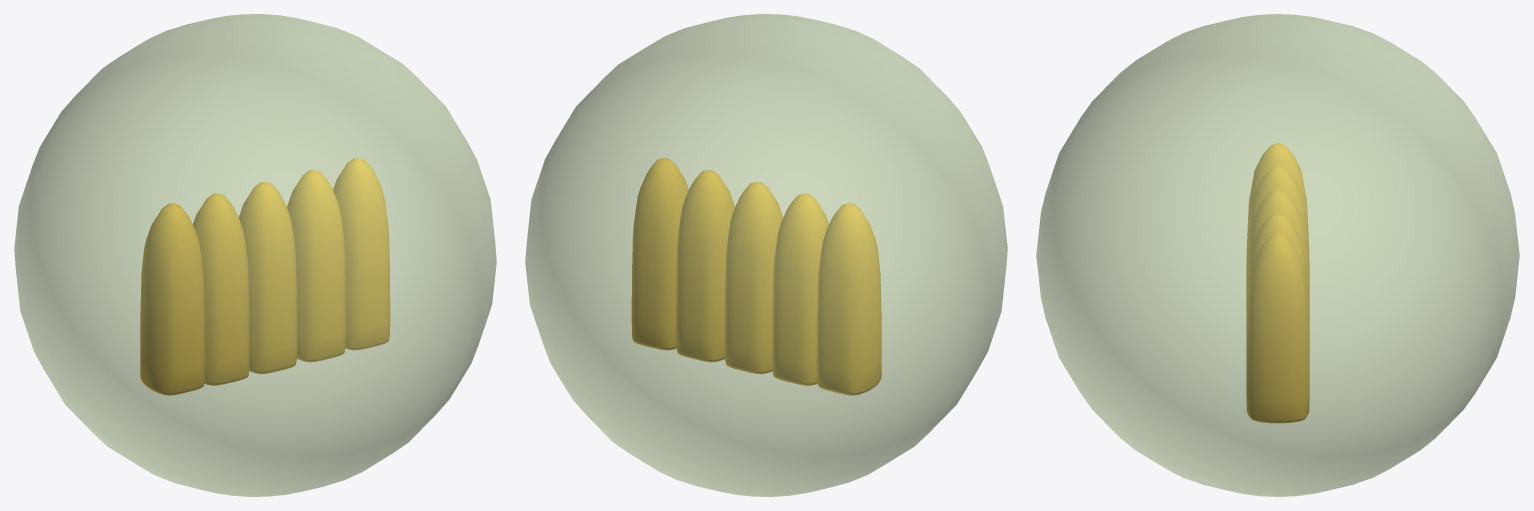
The model's file is AmmoBuff.fbx.
3 renders of one model, left to right at view 1: azimuth 30°, elevation 25°; view 2: azimuth 150°, elevation 25°; view 3: azimuth 270°, elevation 25°, orthographic.
Visible parts, largest first — view 1: Sphere, Cube.003, Cube, Cube.001, Cube.004, Cube.002; view 2: Sphere, Cube.003, Cube, Cube.001, Cube.004, Cube.002; view 3: Sphere, Cube.004, Cube.001, Cube.002, Cube.003, Cube.
Boxes of the visible parts, x1,y1,x2,y2 form: Sphere: (14, 14, 496, 496); Cube.003: (140, 203, 205, 395); Cube: (287, 169, 345, 362); Cube.001: (238, 181, 297, 373); Cube.004: (333, 158, 390, 350); Cube.002: (193, 193, 249, 385); Sphere: (525, 14, 1007, 496); Cube.003: (816, 203, 881, 395); Cube: (676, 169, 734, 362); Cube.001: (724, 181, 783, 373); Cube.004: (631, 158, 688, 350); Cube.002: (772, 193, 828, 385); Sphere: (1036, 14, 1519, 496); Cube.004: (1246, 233, 1309, 423); Cube.001: (1246, 188, 1309, 330); Cube.002: (1246, 165, 1309, 306); Cube.003: (1246, 142, 1309, 283); Cube: (1246, 212, 1309, 350).
Size of the model in its own units: 1142 by 1142 by 1142.
